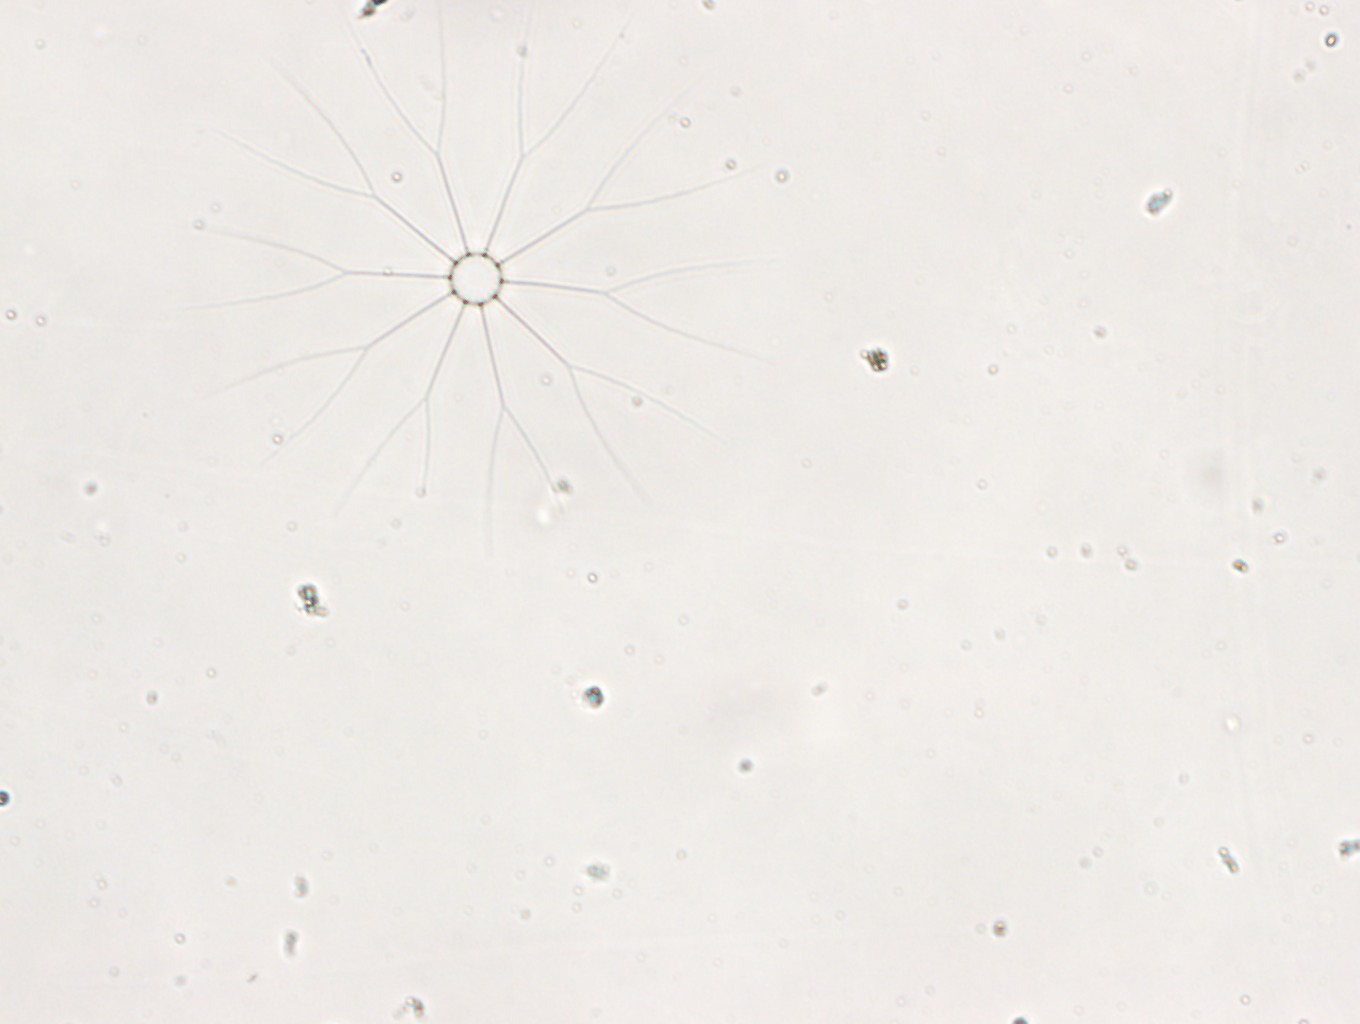bacteriastrum: (196, 1, 796, 541)
